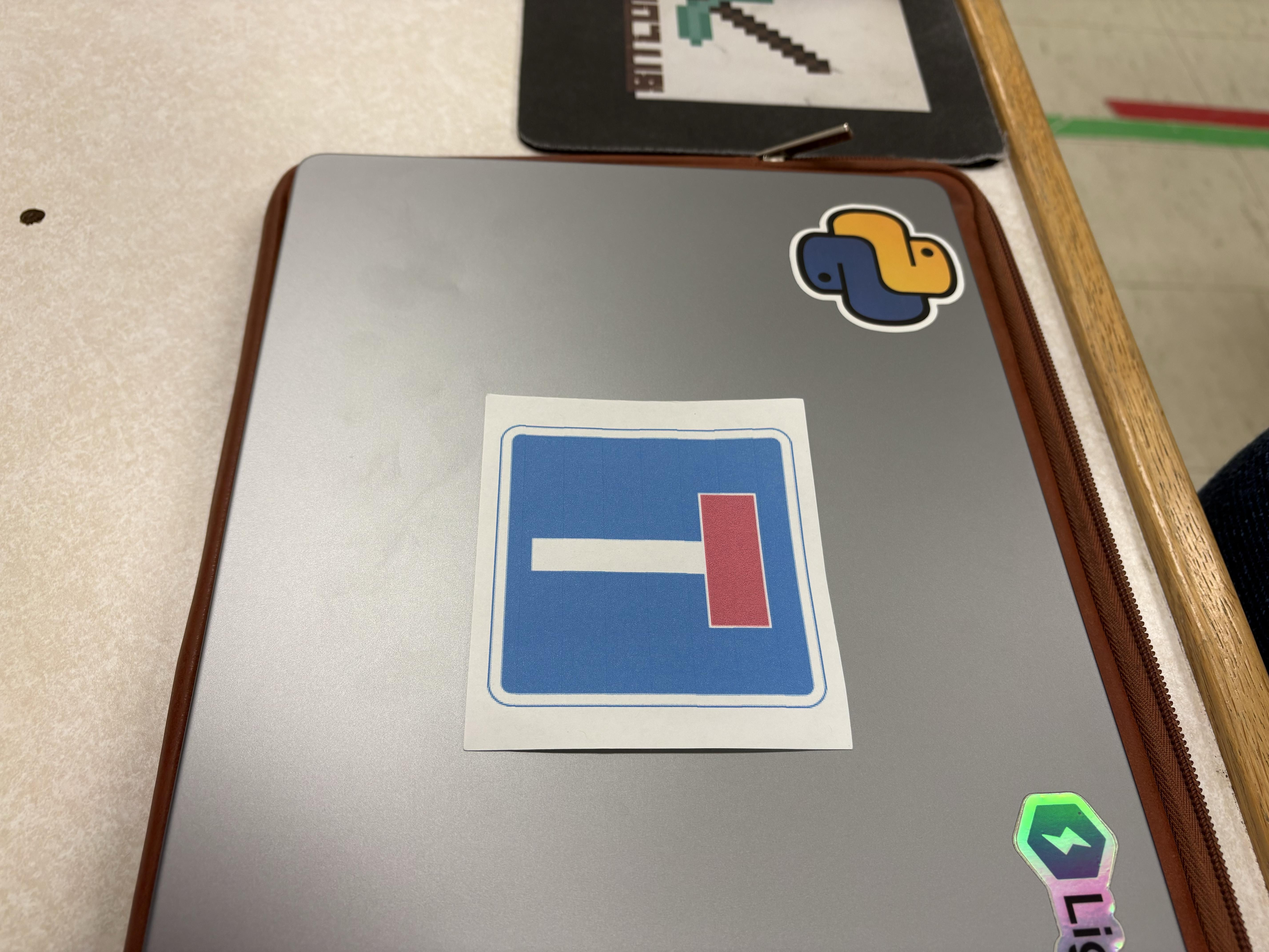Dead End: (464, 391, 861, 756)
